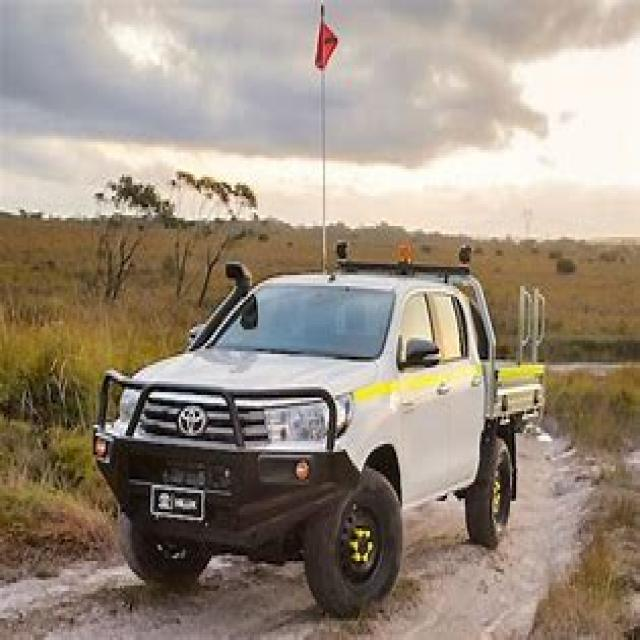light_vehicle: (81, 242, 565, 616)
